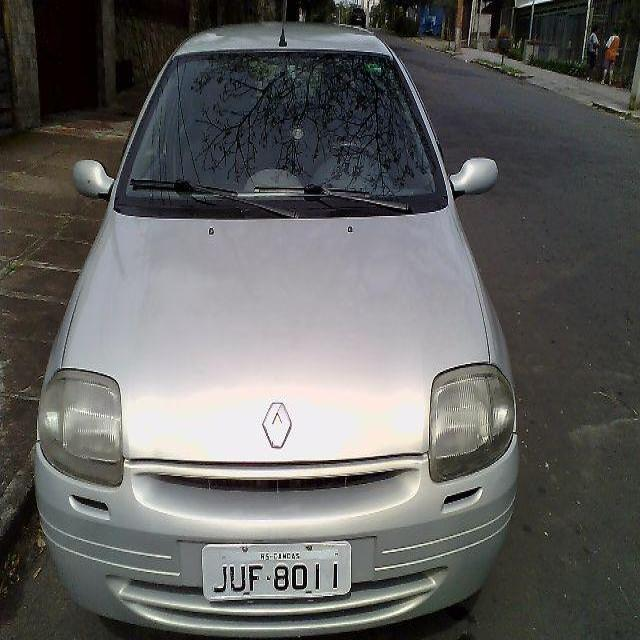Placa: (201, 537, 353, 601)
